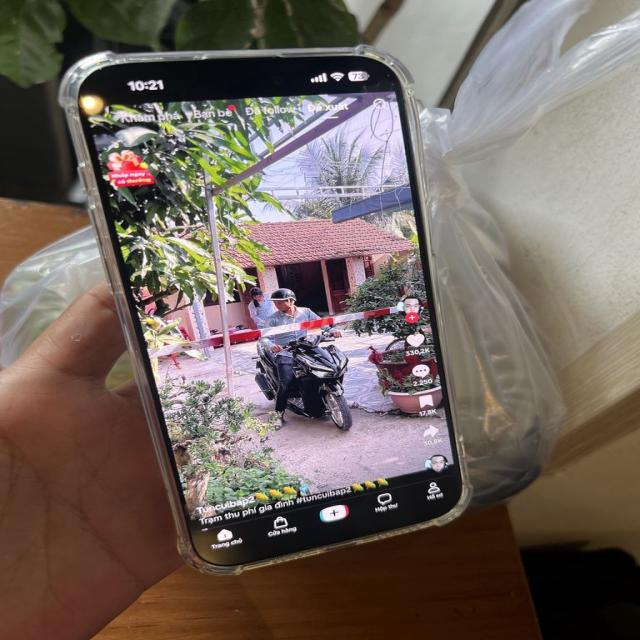gen_15: (50, 33, 485, 578)
